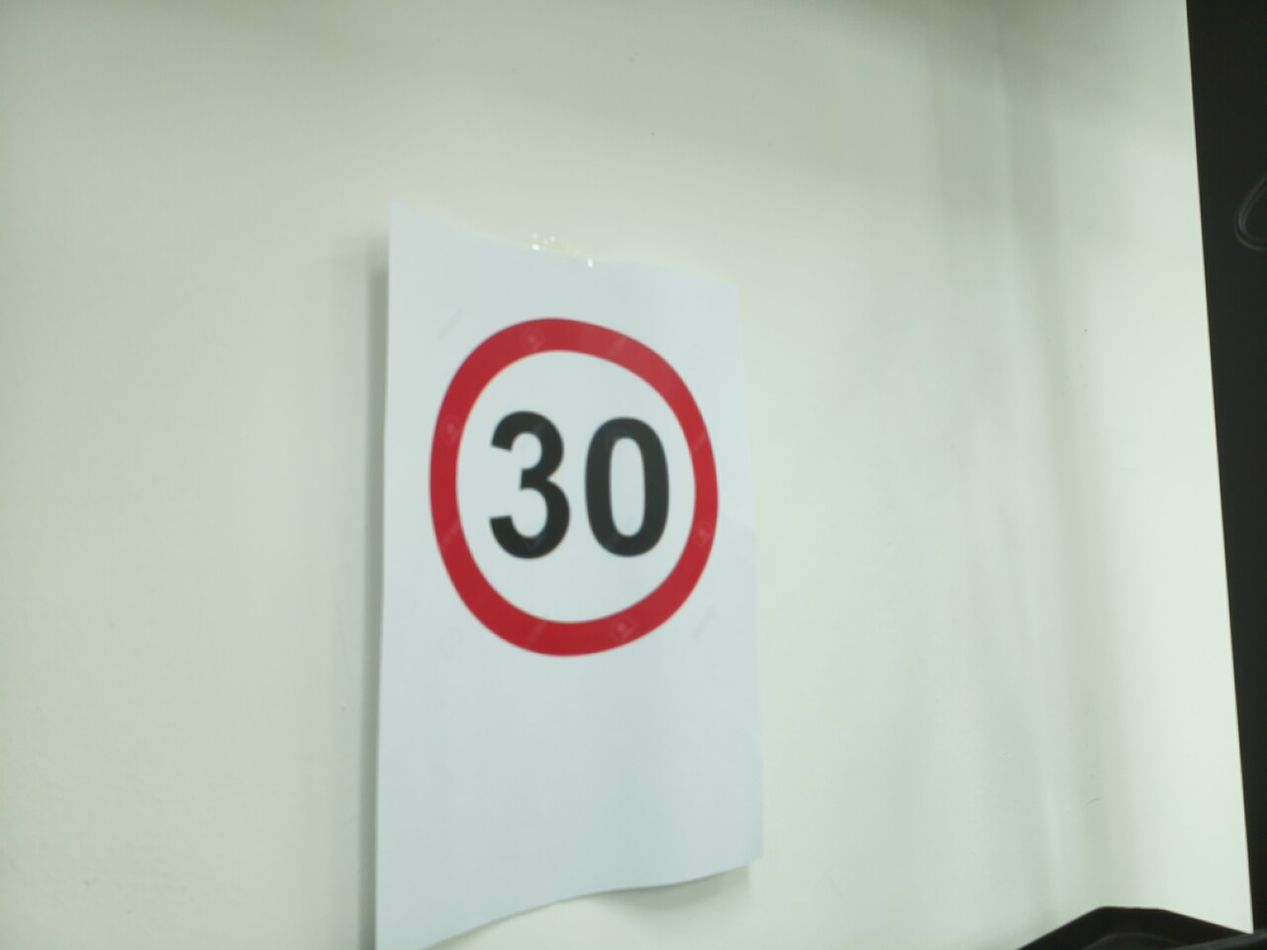speed_30: (420, 307, 729, 668)
